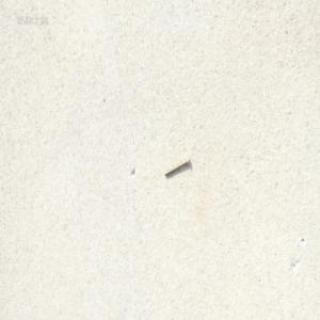Bolttrack_idkeyframe: (163, 154, 189, 176)
